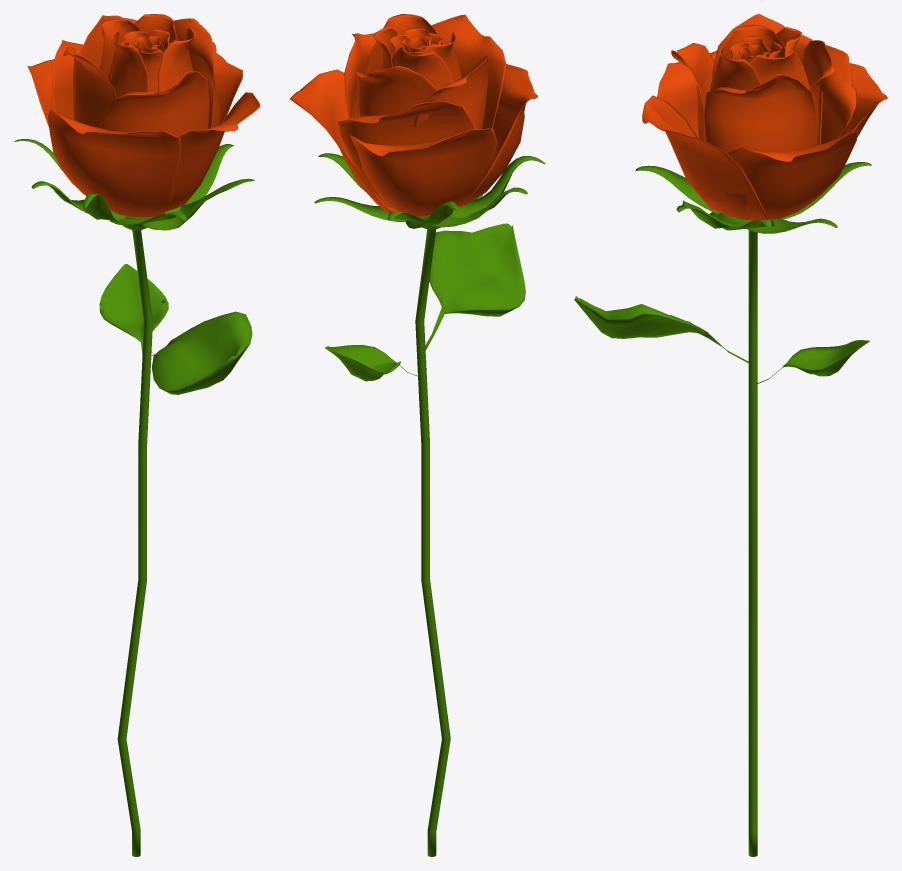
Rendered from rose.fbx.
3 views of the same model, side by side, from view 1: azimuth 30°, elevation 25°; view 2: azimuth 150°, elevation 25°; view 3: azimuth 270°, elevation 25° (orthographic).
Parts seen in each view (by area): view 1: Rose, Plane_004; view 2: Rose, Plane_004; view 3: Rose, Plane_004.
Boxes of the visible parts, x1,y1,x2,y2 form: Rose: (27, 14, 260, 217); Plane_004: (14, 139, 254, 856); Rose: (289, 14, 537, 216); Plane_004: (314, 153, 545, 856); Rose: (642, 14, 887, 220); Plane_004: (574, 162, 871, 856).
Bounding box in the file's own units: 3.06 × 11.18 × 3.87.
